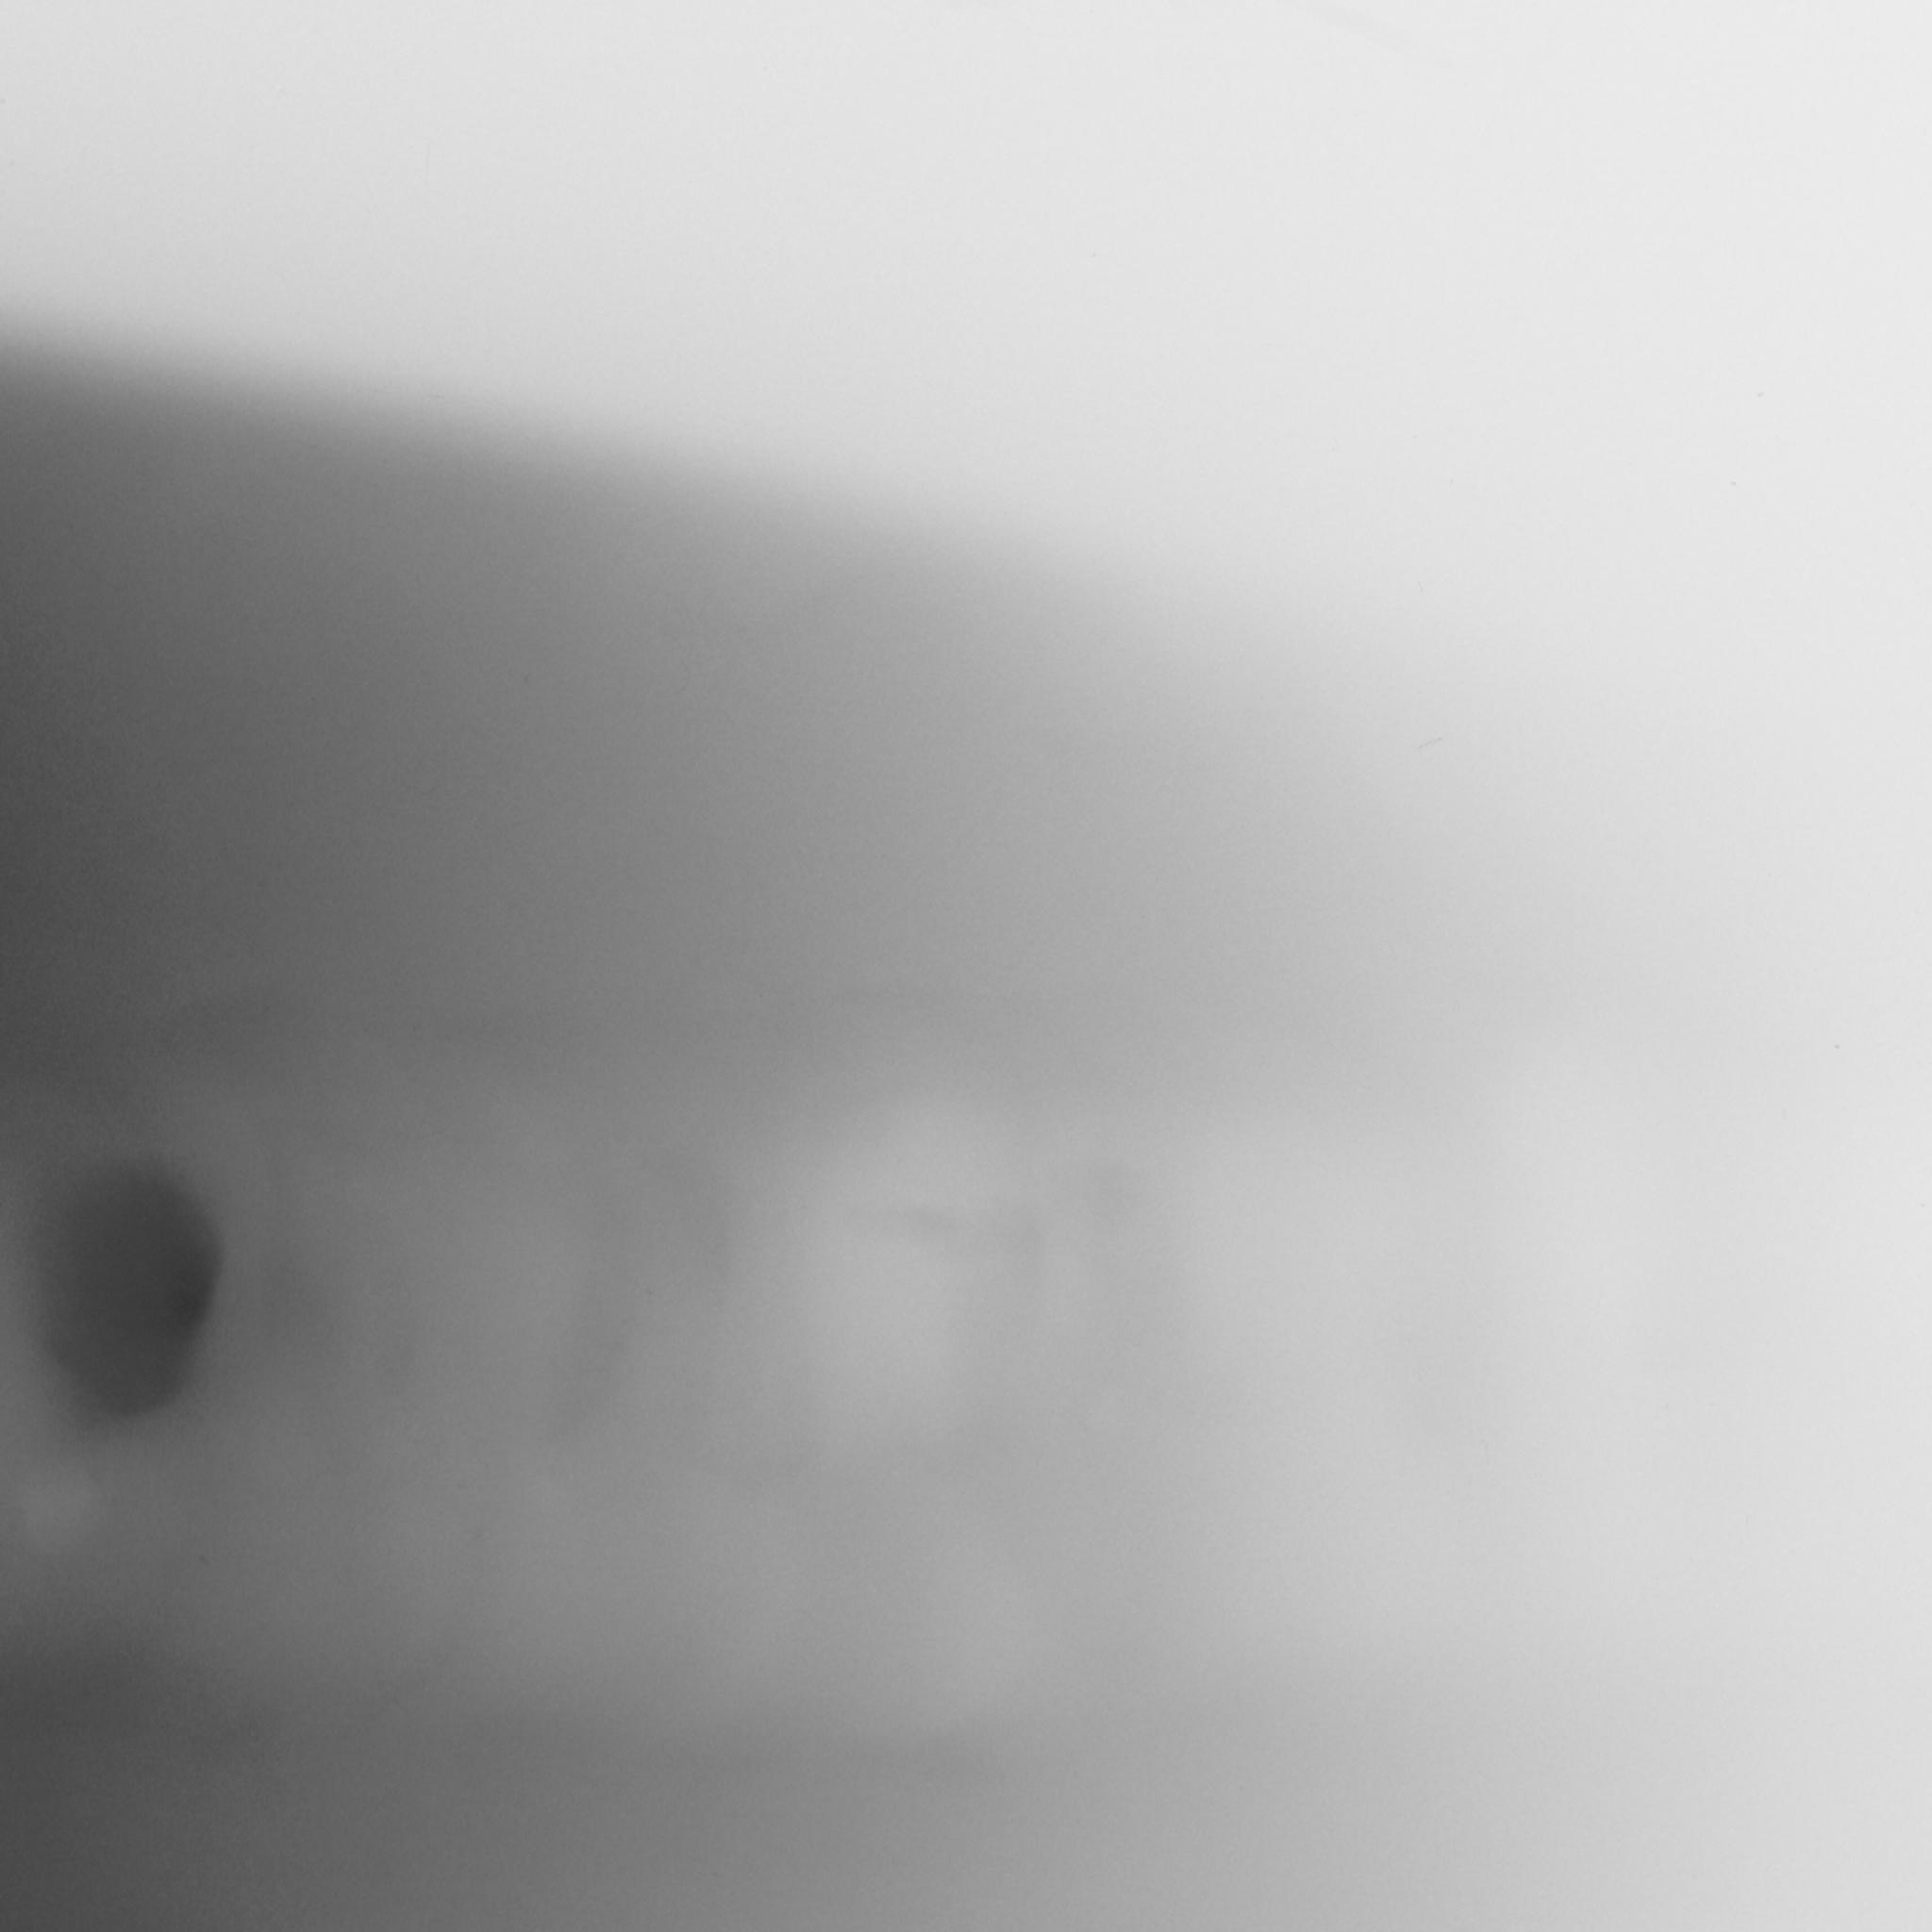Solda Ruim: (0, 884, 1932, 1782)
